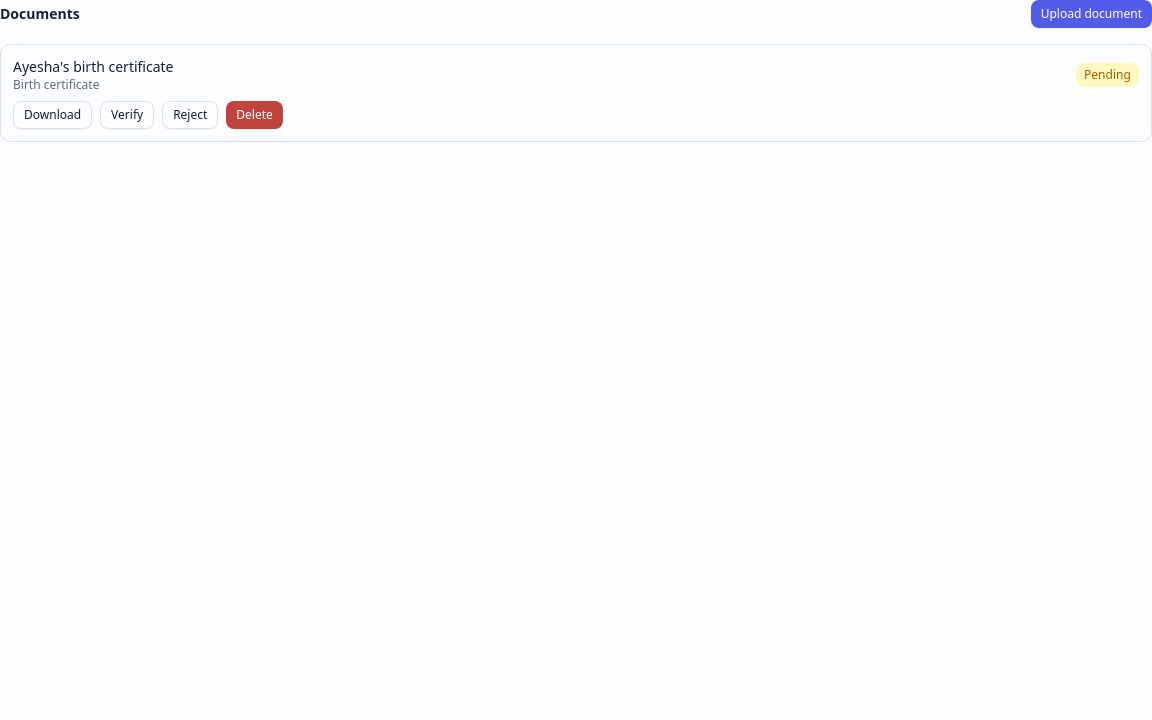
it: StudentDocumentsTab — mobile drawer delete confirmation › renders the delete confirmation as a Drawer, not the desktop AlertDialog
Click the button "Delete" at point(255, 115), box [226,101,283,129]
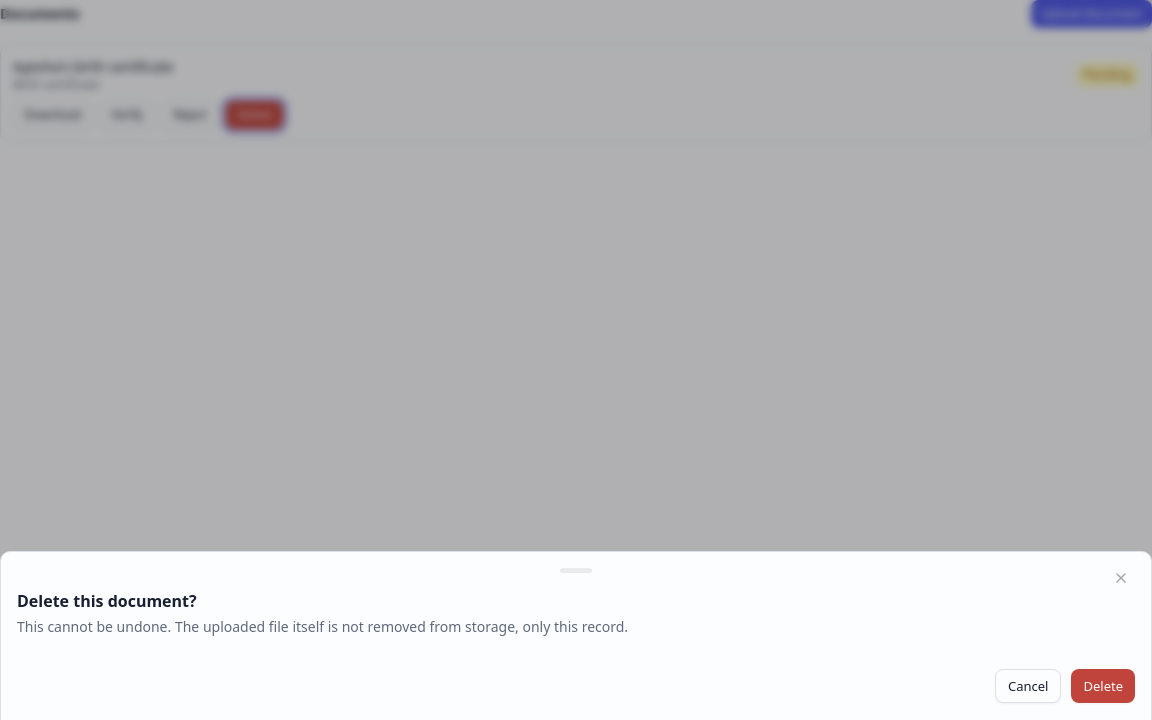
Check: the dialog is shown, box [0,551,1151,719]
